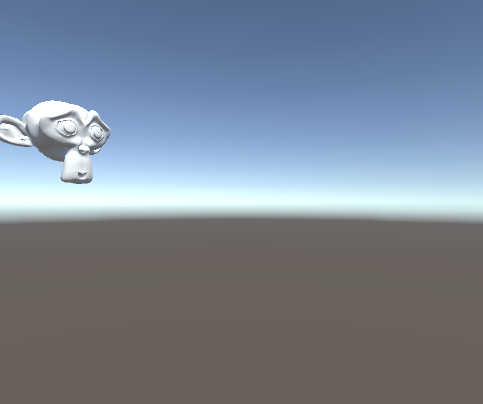monkey: (1, 99, 111, 185)
